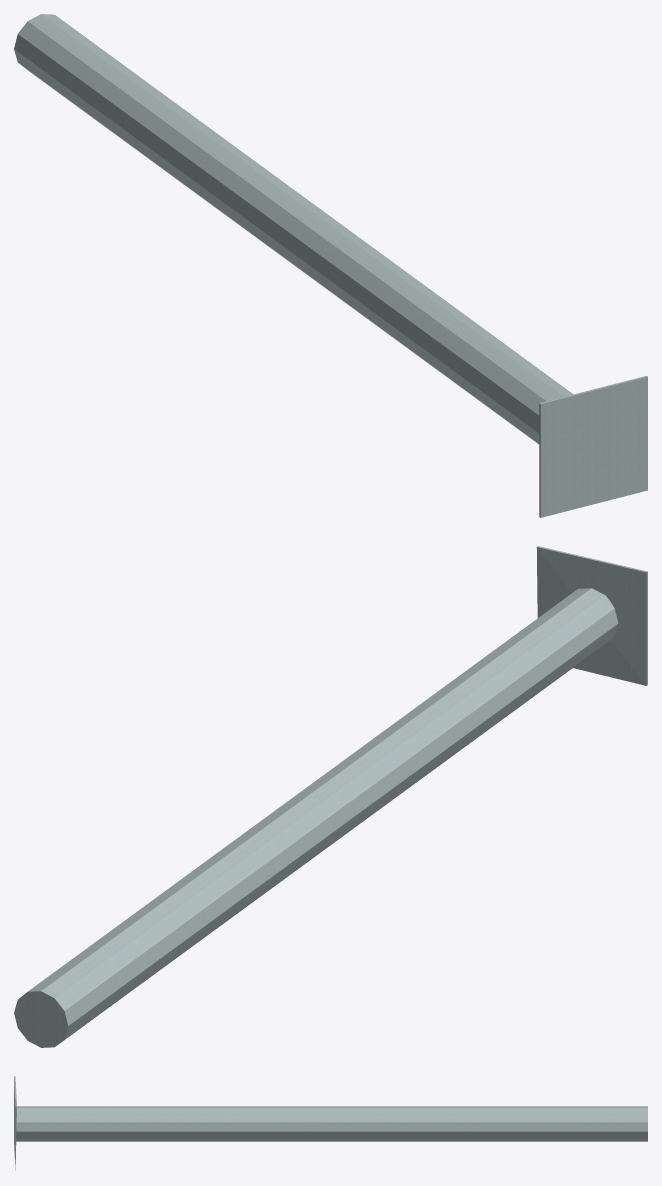
File: zcz002-geode.glb
3 renders of one model, top to bottom at view 1: azimuth 30°, elevation 25°; view 2: azimuth 150°, elevation 25°; view 3: azimuth 270°, elevation 25°, orthographic. The views are drawn at different scales.
Visible parts, largest first — view 1: Node; view 2: Node; view 3: Node.
Part boxes in pixels (x1=…): Node: x1=14, y1=14, x2=647, y2=517; Node: x1=14, y1=546, x2=647, y2=1047; Node: x1=14, y1=1076, x2=647, y2=1170.
Size of the model in its own units: 0.5002 by 0.5002 by 4.41.
1 material, 1 textured.
